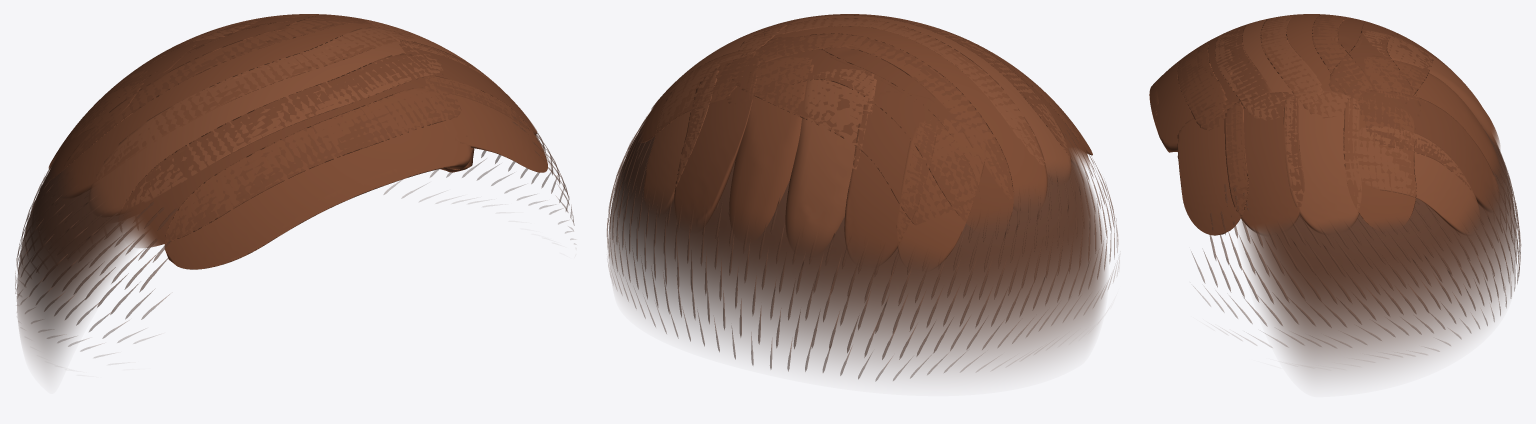
Rendered from Masculine-taper-cap259-hair.glb.
3 views of the same model, side by side, from view 1: azimuth 30°, elevation 25°; view 2: azimuth 150°, elevation 25°; view 3: azimuth 270°, elevation 25° (orthographic). The views are drawn at different scales.
Parts seen in each view (by area): view 1: 226 hair / Hair258 / sculpted side sweep 1, 226 hair / Hair258 / sculpted side sweep 0, 226 hair / Hair258 / sculpted side sweep 2, 226 hair / Hair258 / smooth side fade, 226 hair / Hair259 / directional fade marks214; view 2: 226 hair / Hair258 / smooth side fade, 226 hair / Hair258 / sculpted side sweep 0, 226 hair / Hair258 / sculpted side sweep 1, 226 hair / Hair258 / sculpted side sweep 2, 226 hair / Hair259 / directional fade marks214; view 3: 226 hair / Hair258 / smooth side fade, 226 hair / Hair258 / sculpted side sweep 1, 226 hair / Hair258 / sculpted side sweep 0, 226 hair / Hair258 / sculpted side sweep 2, 226 hair / Hair259 / directional fade marks214.
Part boxes in pixels (left/top/right/bottom): 226 hair / Hair258 / sculpted side sweep 1: left=48, top=14, right=547, bottom=269; 226 hair / Hair258 / sculpted side sweep 0: left=48, top=14, right=536, bottom=247; 226 hair / Hair258 / sculpted side sweep 2: left=89, top=18, right=499, bottom=217; 226 hair / Hair258 / smooth side fade: left=16, top=135, right=553, bottom=370; 226 hair / Hair259 / directional fade marks214: left=15, top=113, right=574, bottom=357; 226 hair / Hair258 / smooth side fade: left=608, top=124, right=1106, bottom=375; 226 hair / Hair258 / sculpted side sweep 0: left=674, top=14, right=1089, bottom=264; 226 hair / Hair258 / sculpted side sweep 1: left=639, top=18, right=1092, bottom=268; 226 hair / Hair258 / sculpted side sweep 2: left=644, top=14, right=1071, bottom=253; 226 hair / Hair259 / directional fade marks214: left=607, top=116, right=1119, bottom=381; 226 hair / Hair258 / smooth side fade: left=1239, top=129, right=1516, bottom=378; 226 hair / Hair258 / sculpted side sweep 1: left=1149, top=14, right=1500, bottom=235; 226 hair / Hair258 / sculpted side sweep 0: left=1177, top=14, right=1499, bottom=234; 226 hair / Hair258 / sculpted side sweep 2: left=1215, top=14, right=1499, bottom=235; 226 hair / Hair259 / directional fade marks214: left=1192, top=136, right=1521, bottom=354.
Bounding box in the file's own units: 0.9743 × 0.584 × 0.7277.
